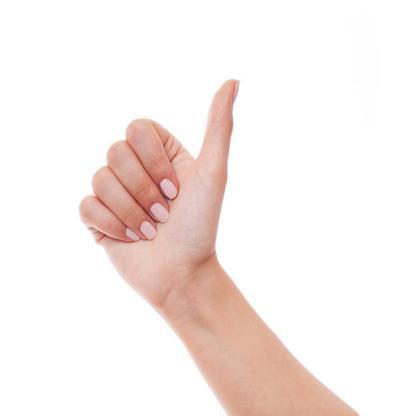thumb_up: (75, 72, 244, 306)
